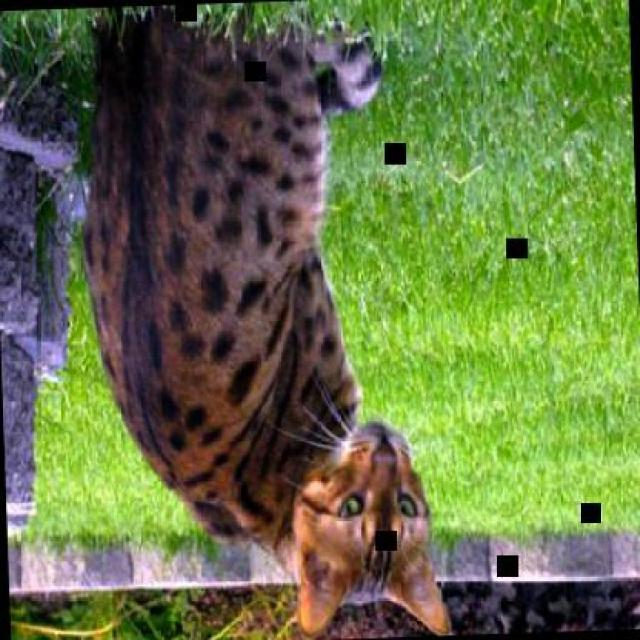cat: (71, 0, 454, 638)
